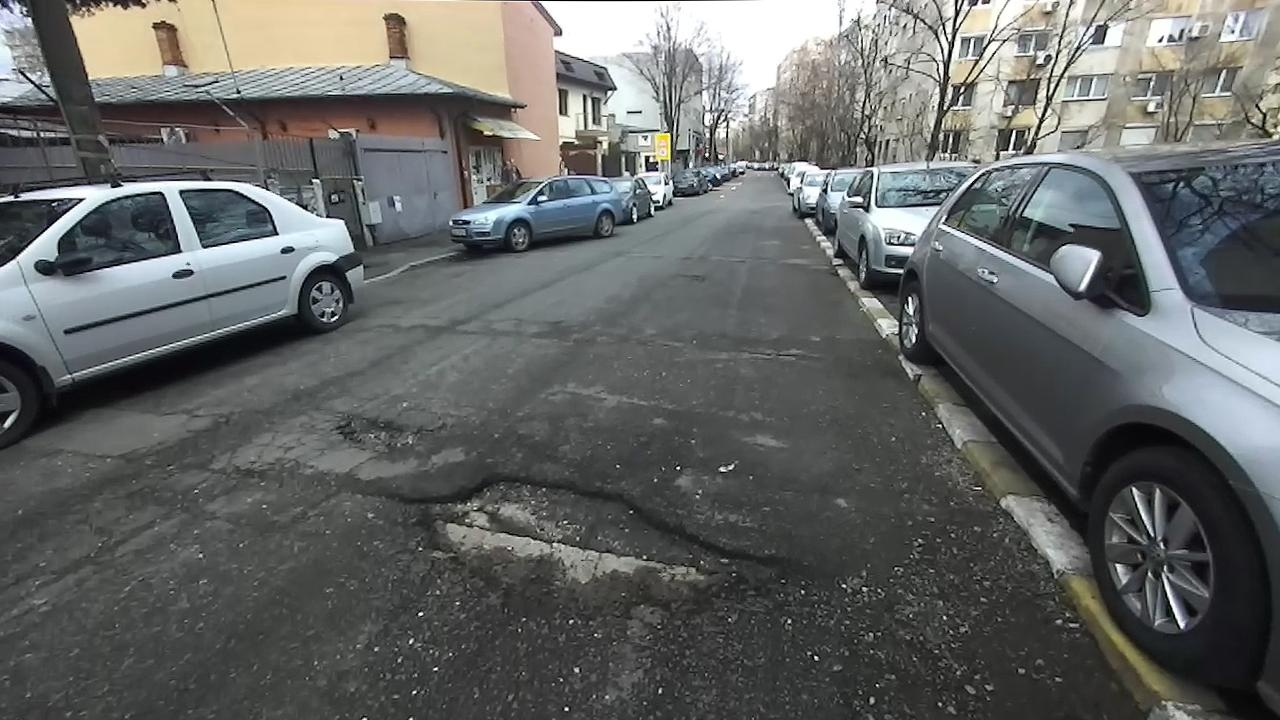pothole: (381, 470, 814, 622), (323, 405, 445, 456), (732, 341, 814, 366)
